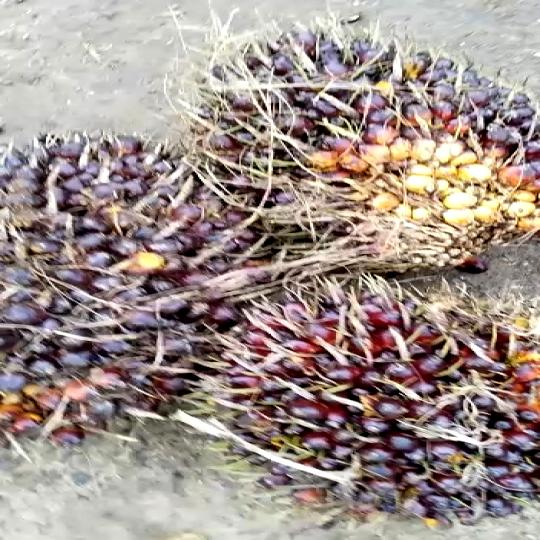kurang masak: (216, 32, 540, 300), (0, 125, 271, 437), (227, 287, 540, 533)
